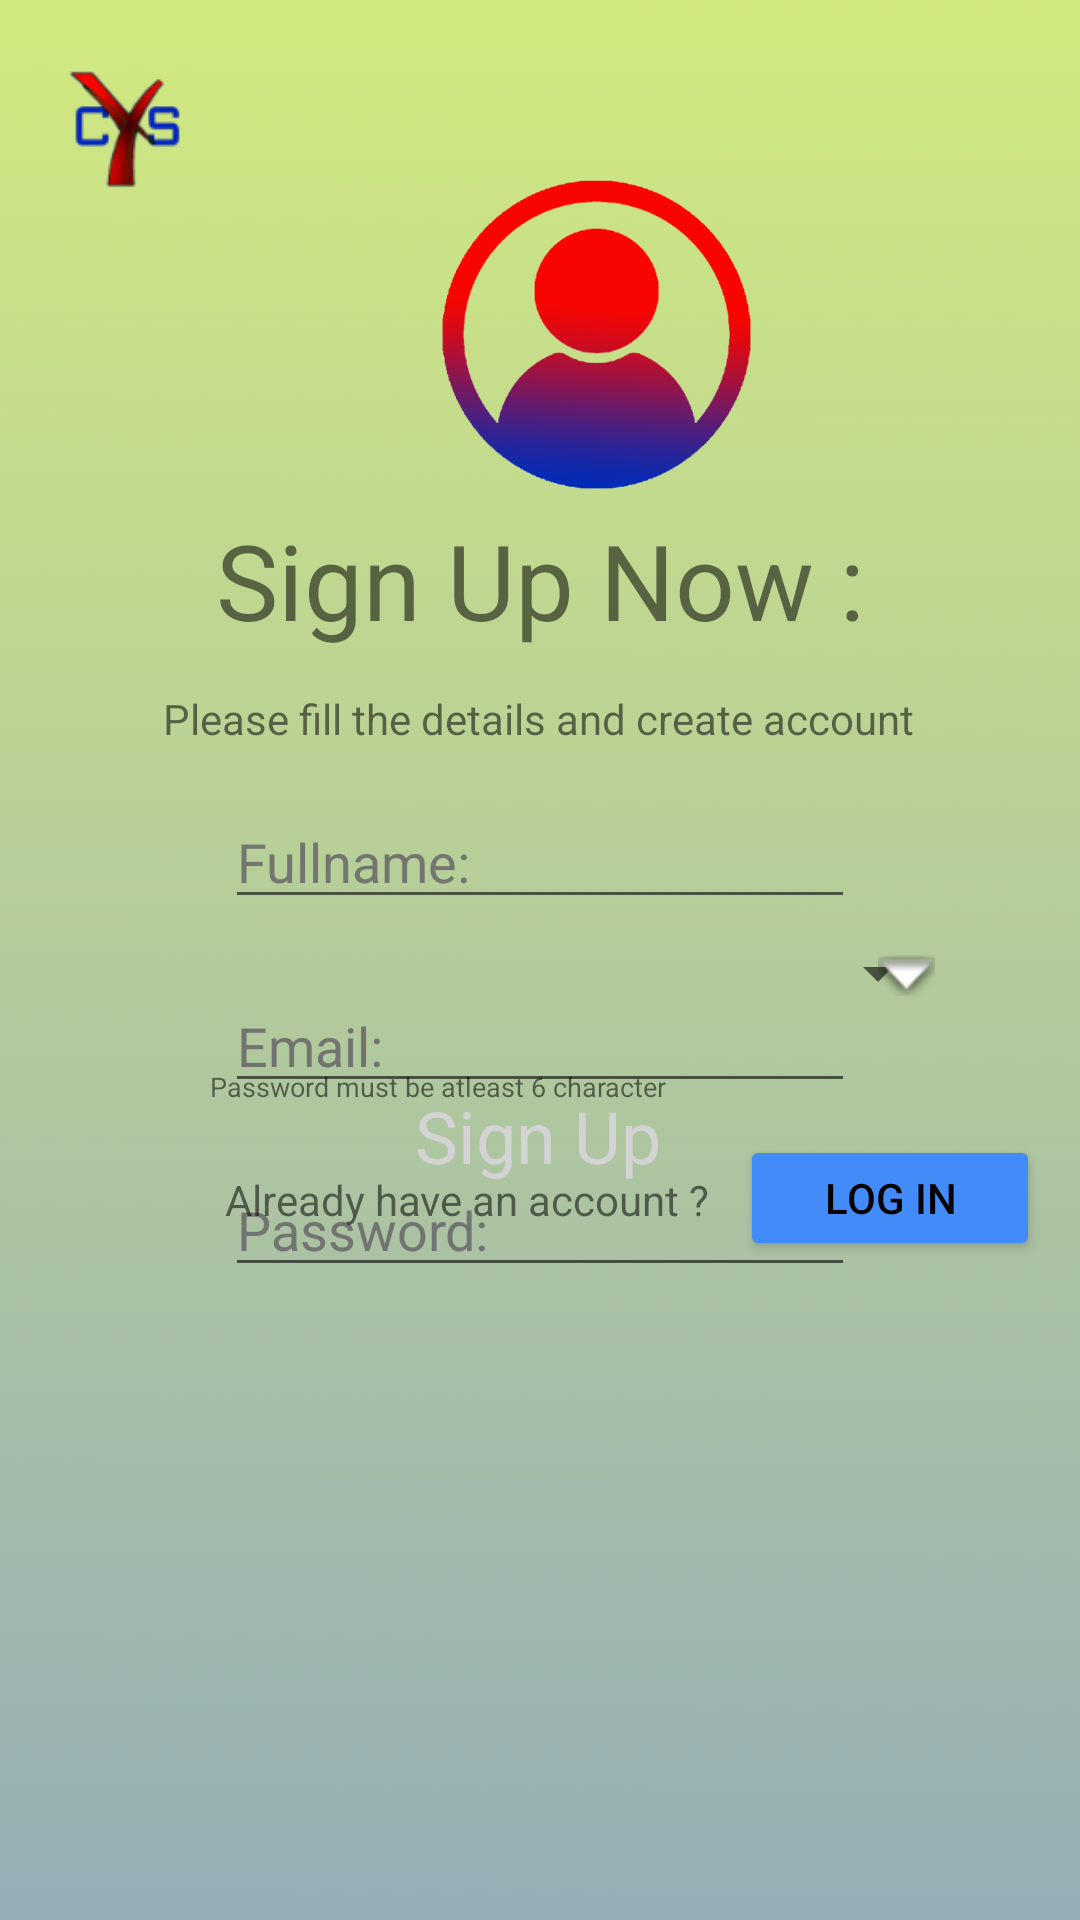

Where icons sit on this 1080 × 1920 app screen, as bbox(x1, y1, x2, y2):
arrow down float: bbox(878, 957, 935, 994)
